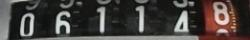digits: (54, 9, 72, 36), (212, 1, 231, 25), (174, 10, 190, 36), (20, 12, 35, 38), (96, 5, 106, 34), (135, 6, 145, 34)
